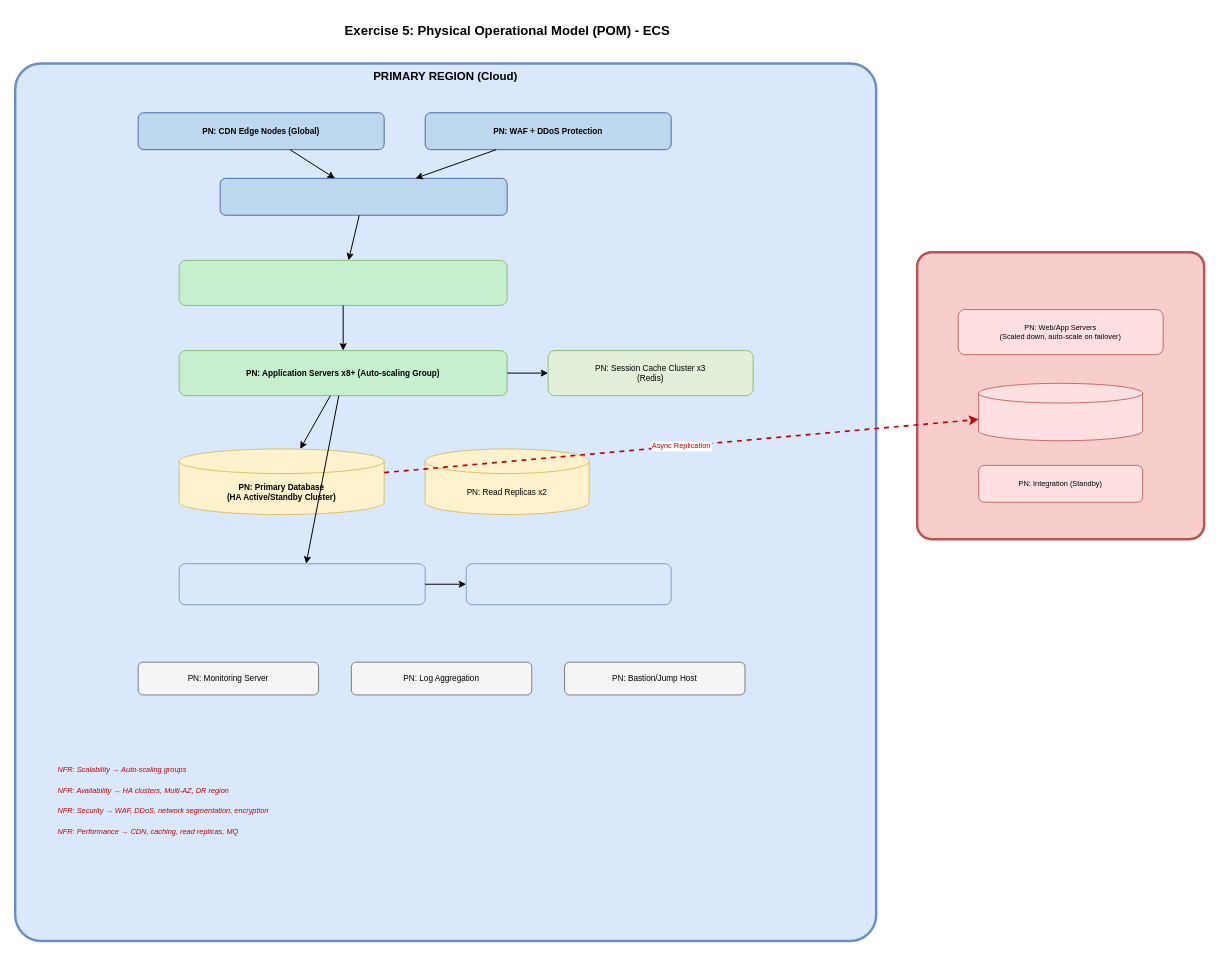
Image size: 1219x956. Some labels were removed from this diagram. The box of each missing label's shape, as (x1, y1, x2, y2) in pixels:
DR REGION (Warm Standby): (916, 251, 1205, 540)
PN: DB Replica (Async replication from Primary): (978, 383, 1143, 441)
PN: Integration Servers x2: (178, 563, 425, 605)
PN: Load Balancer x2 (Active-Active): (219, 178, 507, 215)
PN: Message Queue (Async Processing): (465, 563, 671, 605)
PN: Web Servers x4+ (Auto-scaling Group): (178, 260, 507, 305)
